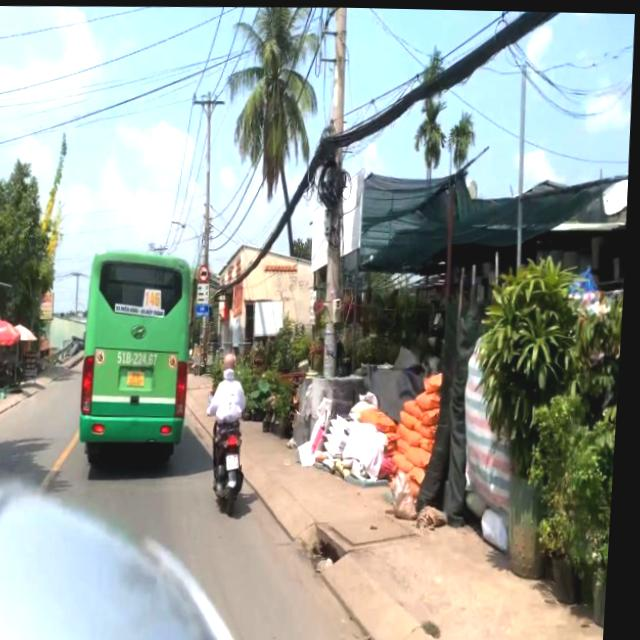Cam xe tai: (202, 262, 212, 282)
